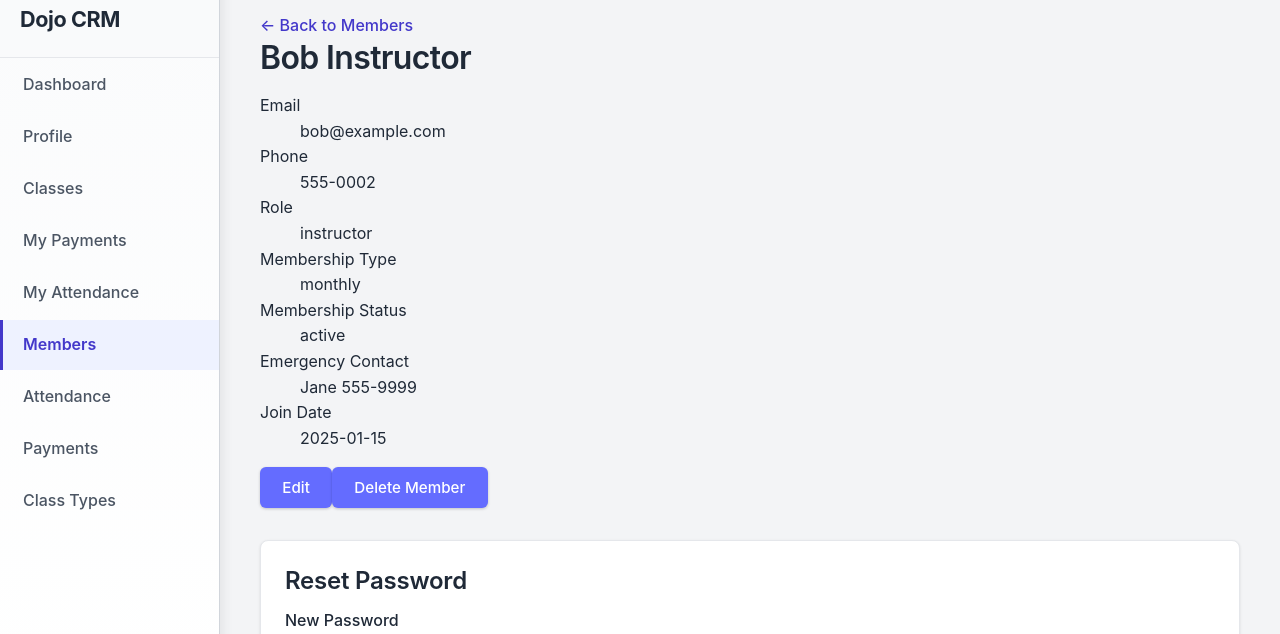
Test case: MemberDetail › switches to edit mode and saves changes
Expected: the heading "Bob Instructor" is shown, [260,38,471,77]
Step 1. Click the button "Edit" → [296, 488], box [260,467,332,508]
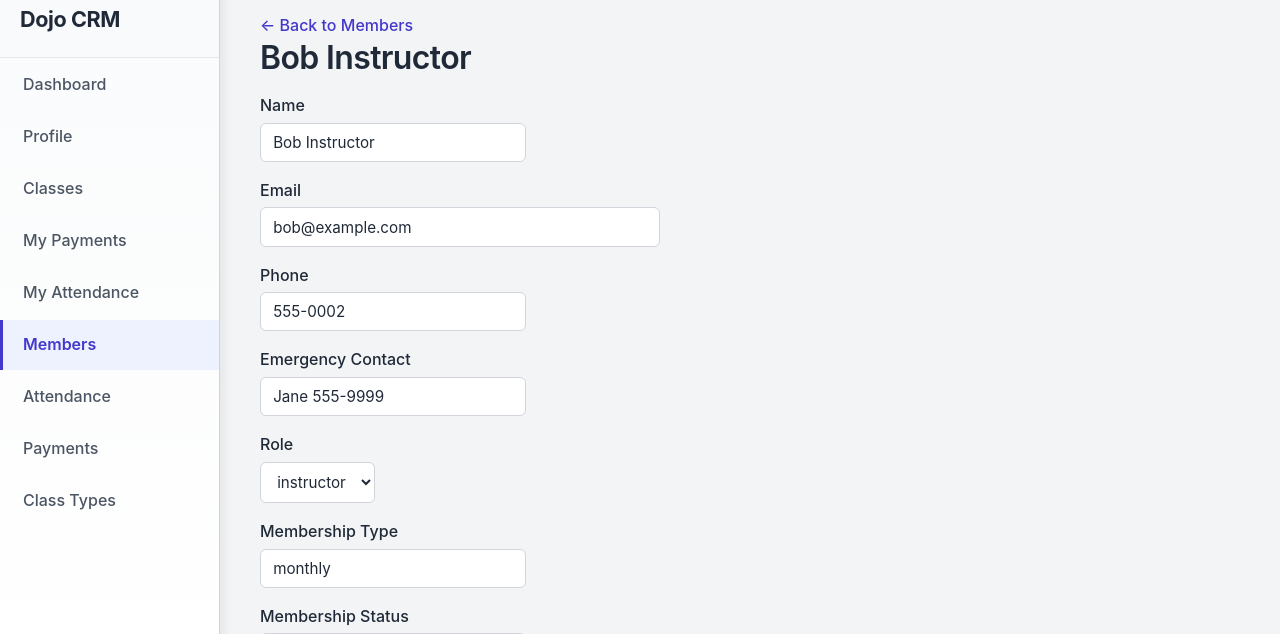
Expected: the field labelled "Name" holds "Bob Instructor"
Expected: the field labelled "Email" holds "bob@example.com", [260,207,660,247]
Modify name
Step 2. Replace the text in the field labelled "Name" with "Bob Updated" → [393, 142], box [260,123,526,162]
(page scrolled)
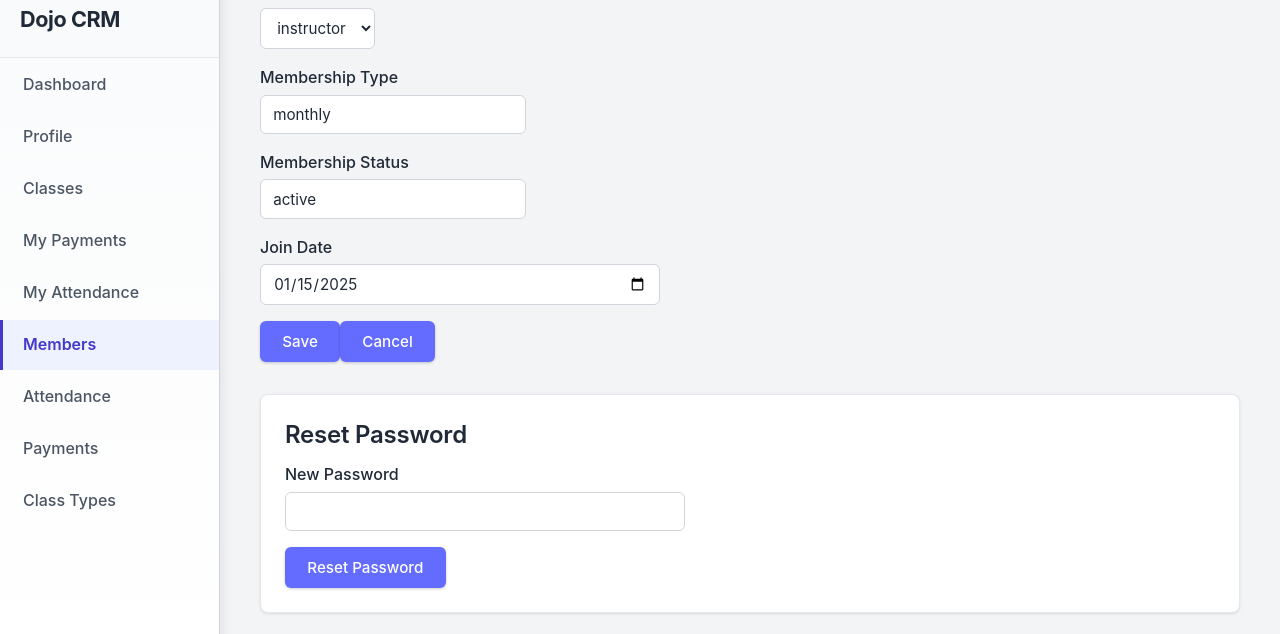
Step 3. Click the button "Save" → [300, 342], box [260,322,340,362]
(page scrolled)
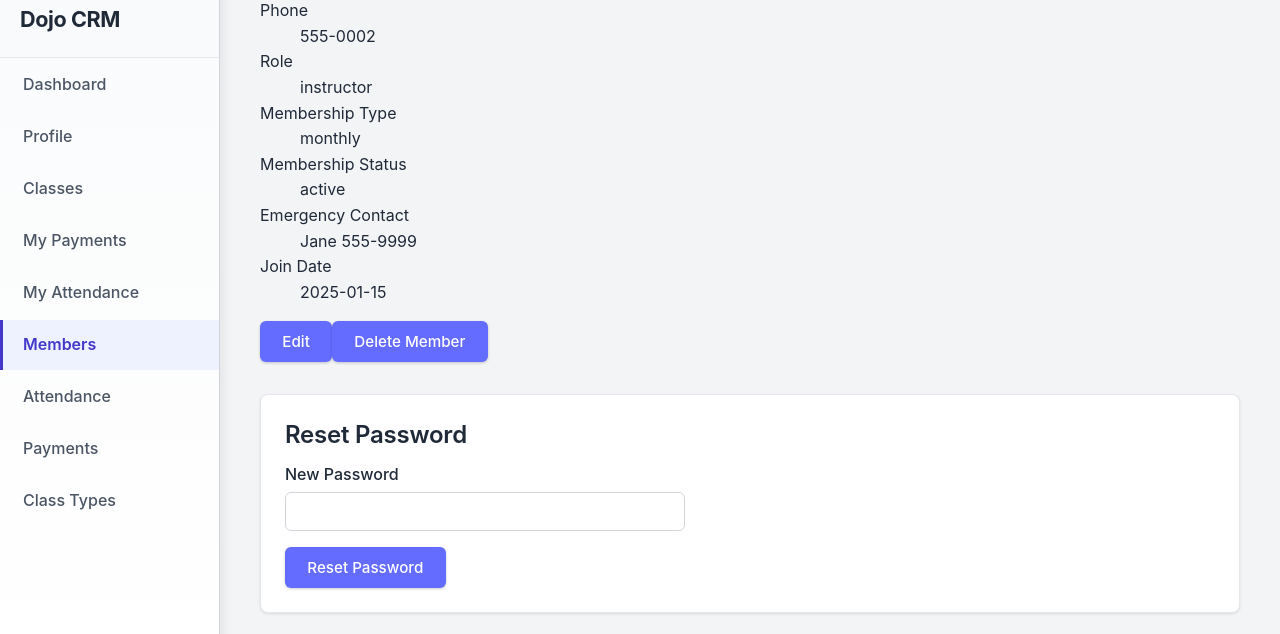
Expected: the button "Edit" is shown, [260,321,332,362]
